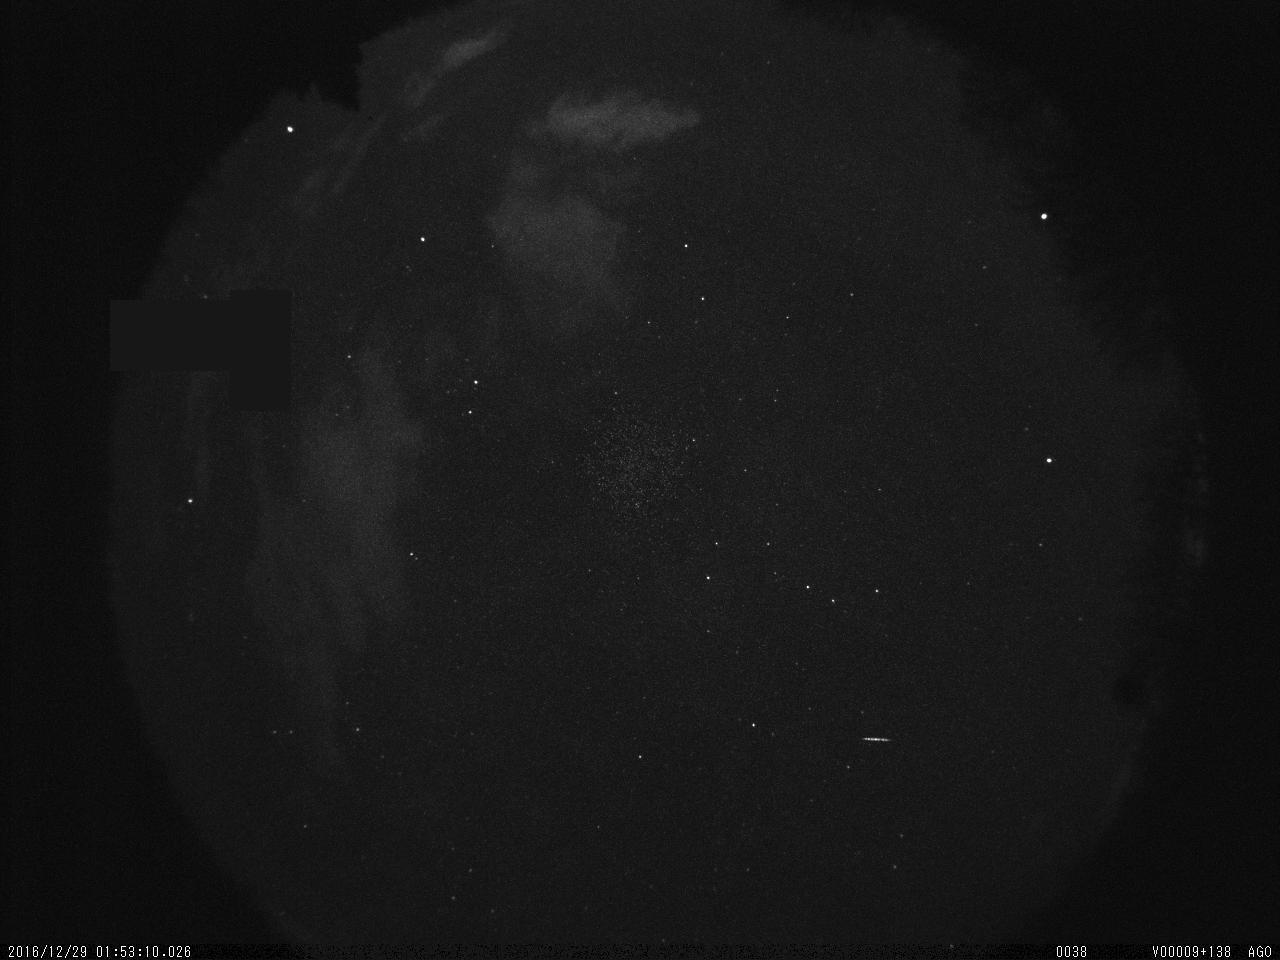meteor: (860, 721, 897, 759)
